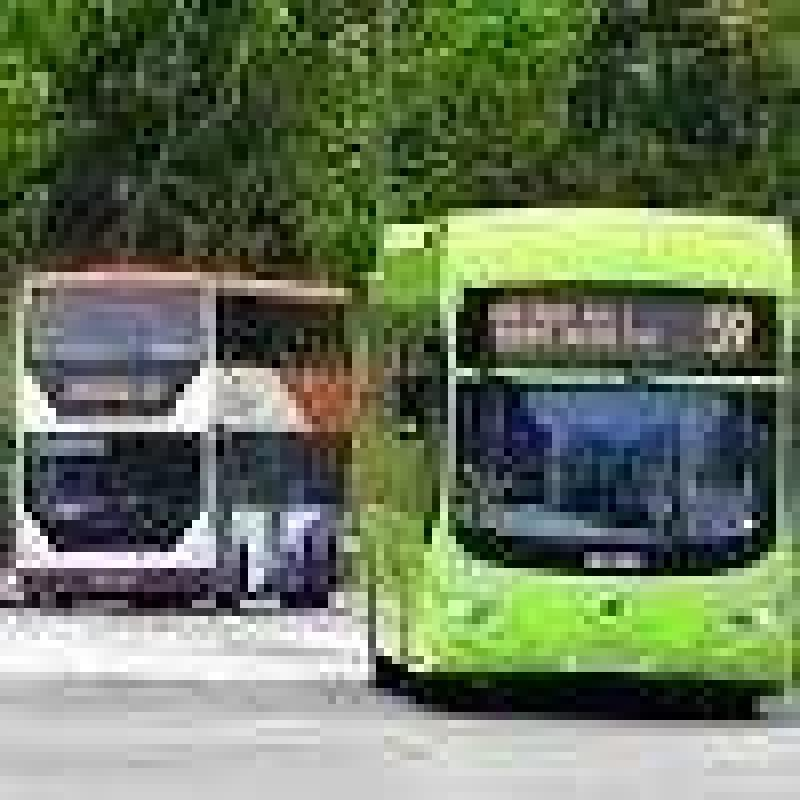bus: (346, 169, 796, 701)
